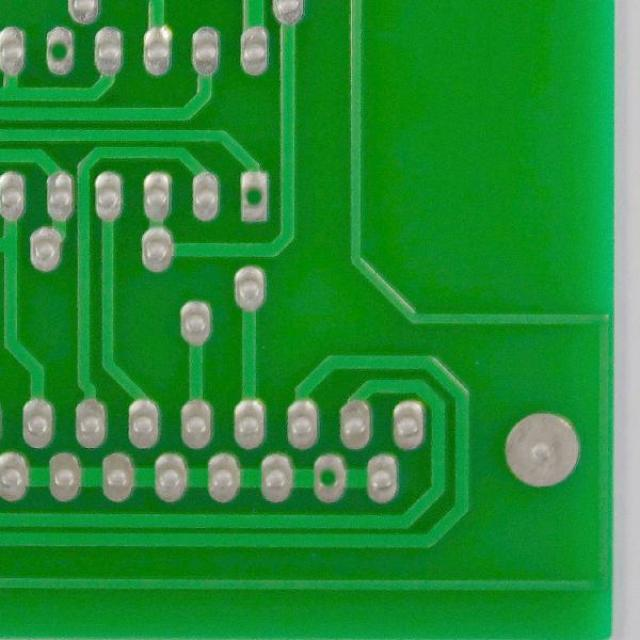Missing_Hole: (307, 451, 351, 505), (235, 165, 273, 224), (42, 24, 79, 77)
